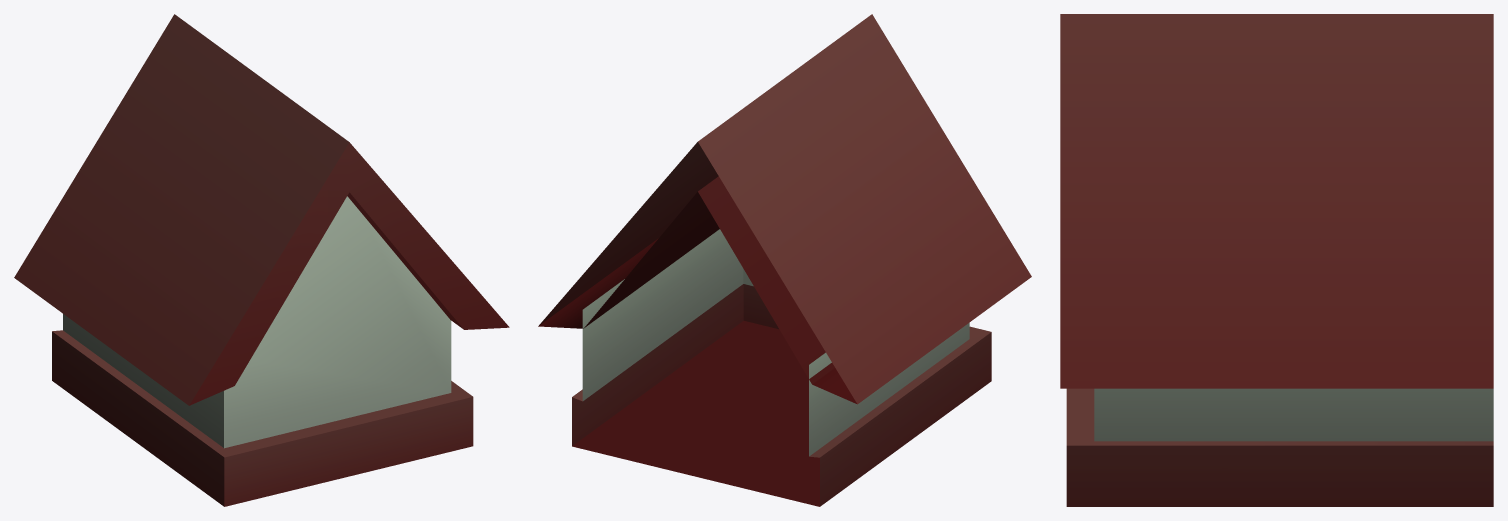
Rendered from Attic_01B.fbx.
3 renders of one model, left to right at view 1: azimuth 30°, elevation 25°; view 2: azimuth 150°, elevation 25°; view 3: azimuth 270°, elevation 25°, orthographic. The views are drawn at different scales.
Parts seen in each view (by area): view 1: Attic_01B; view 2: Attic_01B; view 3: Attic_01B.
Boxes of the visible parts, x1,y1,x2,y2 form: Attic_01B: (14,14,509,506); Attic_01B: (538,14,1031,506); Attic_01B: (1060,14,1493,506).
Bounding box in the file's own units: 213 × 214 × 201.
2 materials, 2 textured.
